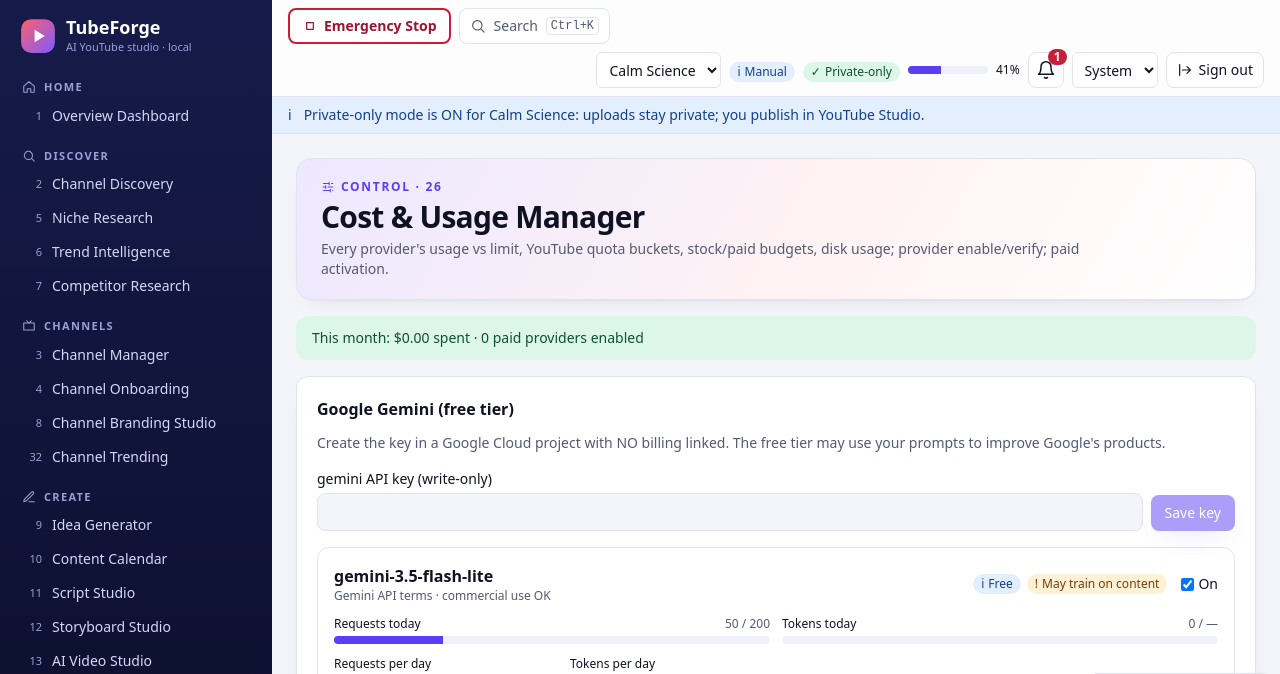
Test: Cost & Usage Manager (real API) › shows the zero-cost banner, saves a key and limits, and starts paid step 1
Check: the text with test id "cost-banner" shows "$0.00 spent · 0 paid providers enabled", box 312,328 -> 644,347
Type "AIza-test-key-123" into the password field labelled "gemini API key (write-only)".
click(730, 512); type("AIza-test-key-123")  # box 317,493 -> 1143,531
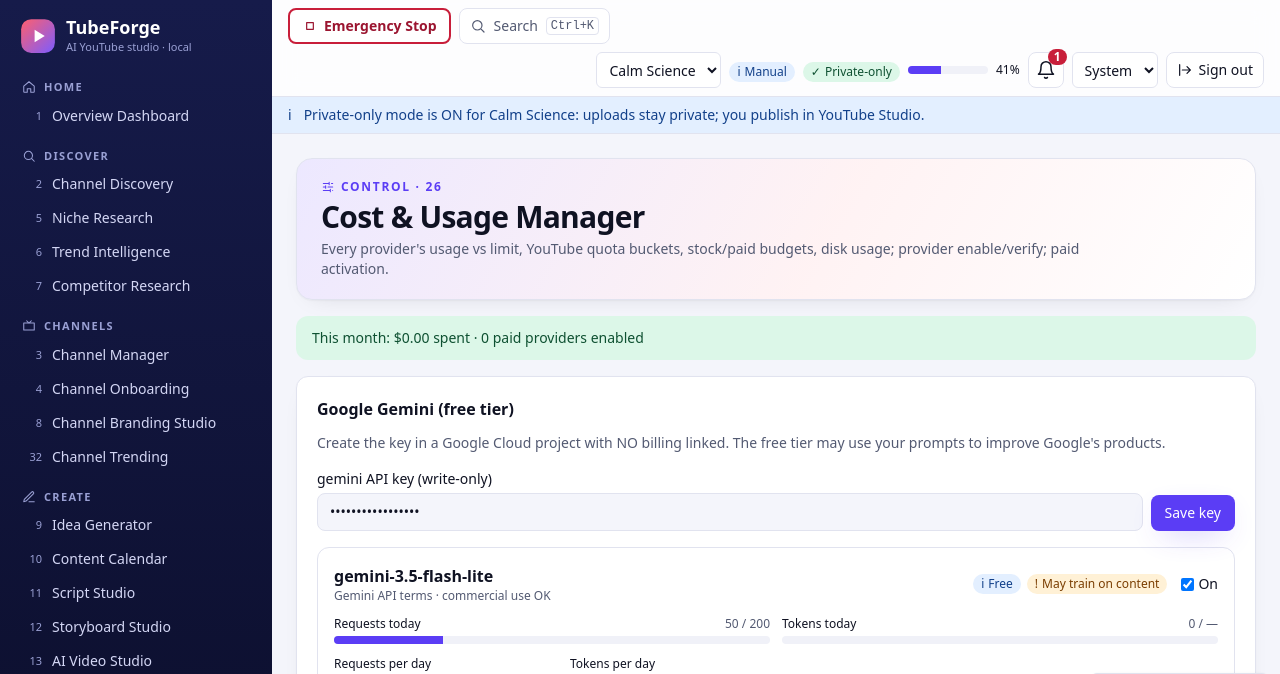
Click the button "Save key".
click(1193, 513)  # box 1151,495 -> 1235,531
(page scrolled)
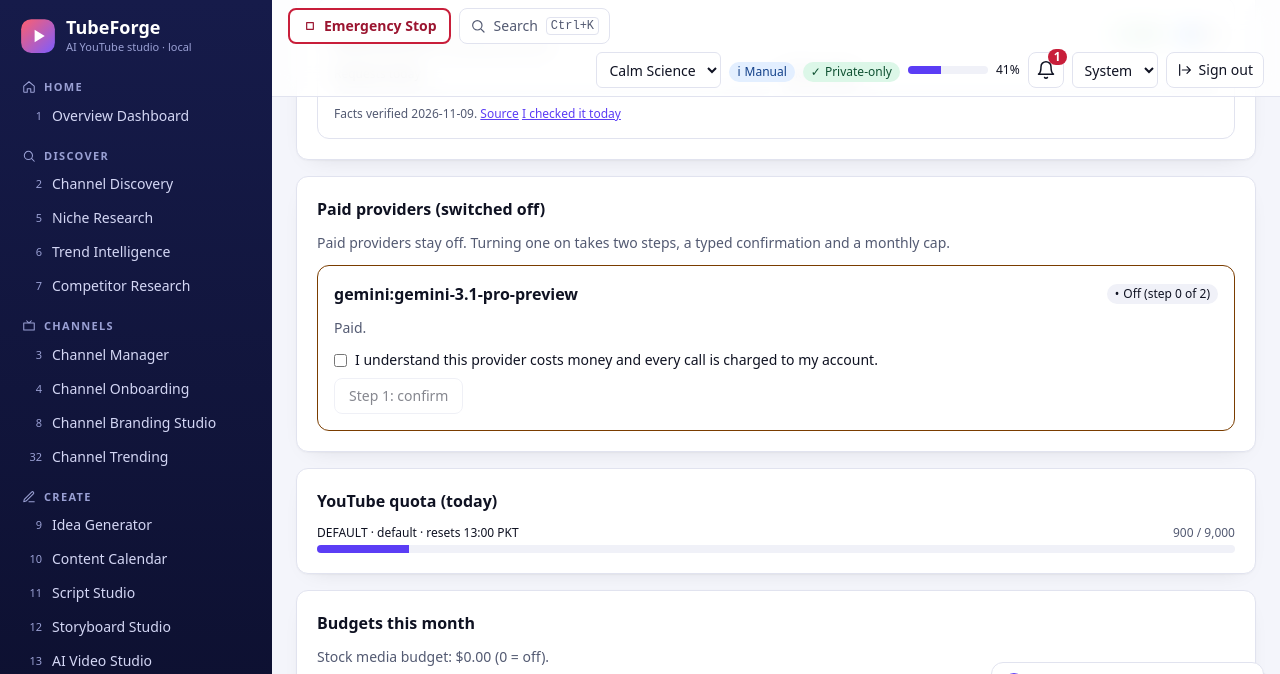
Check: the button "Step 1: confirm" is disabled, box 334,378 -> 463,414
Click the checkbox.
click(340, 360)  # box 334,354 -> 347,367
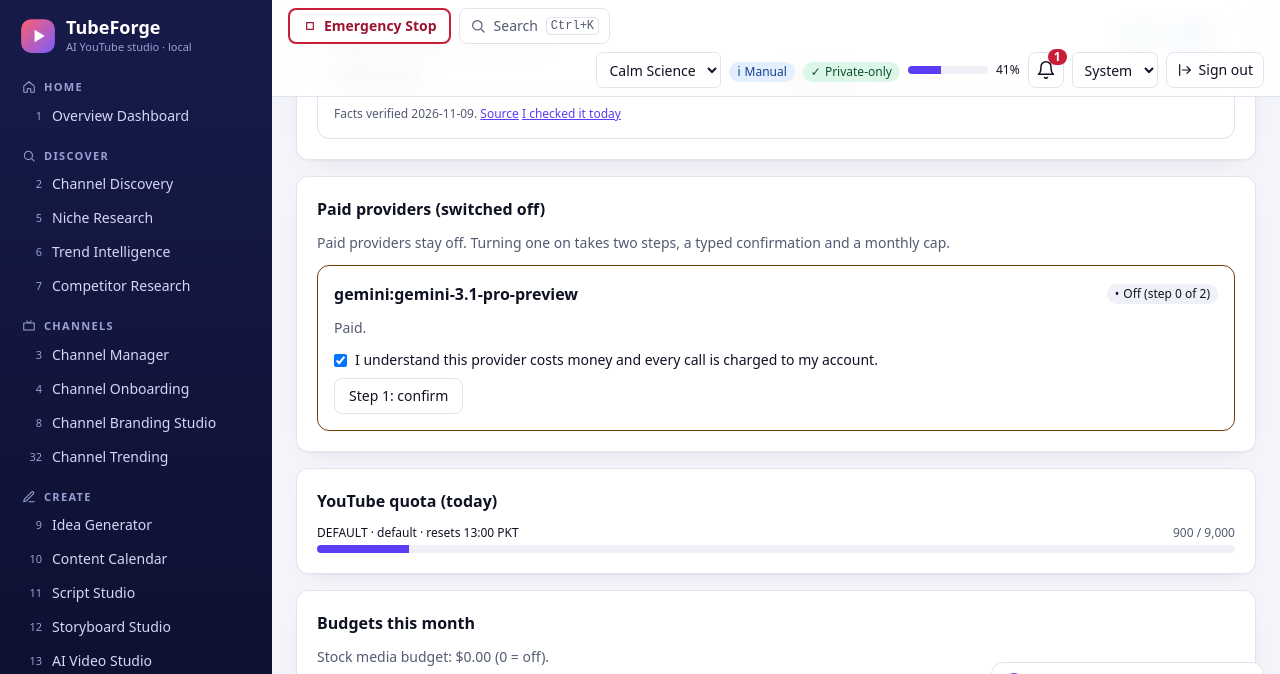
Click the button "Step 1: confirm".
click(399, 396)  # box 334,378 -> 463,414
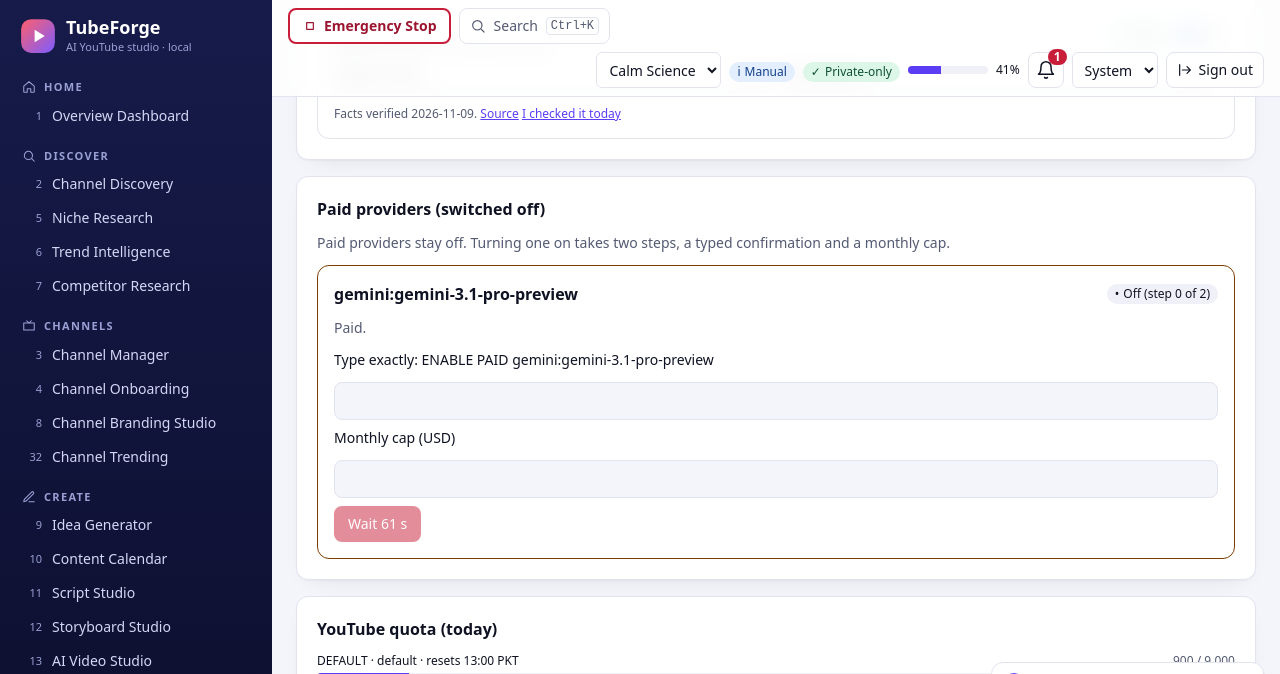
Check: the element with test id "paid-step2" shows "Type exactly: ENABLE PAID gemini:gemini-3.1-pro-preview", box 334,350 -> 714,369
Check: the button "Wait 61 s" is disabled, box 334,506 -> 421,542
